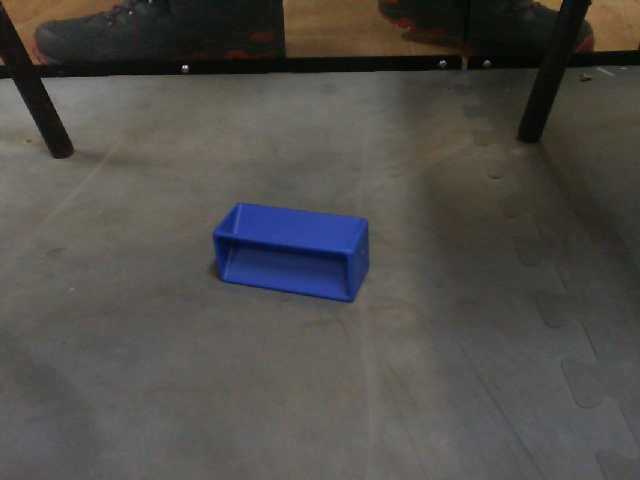BlueSample: (211, 198, 374, 307)
